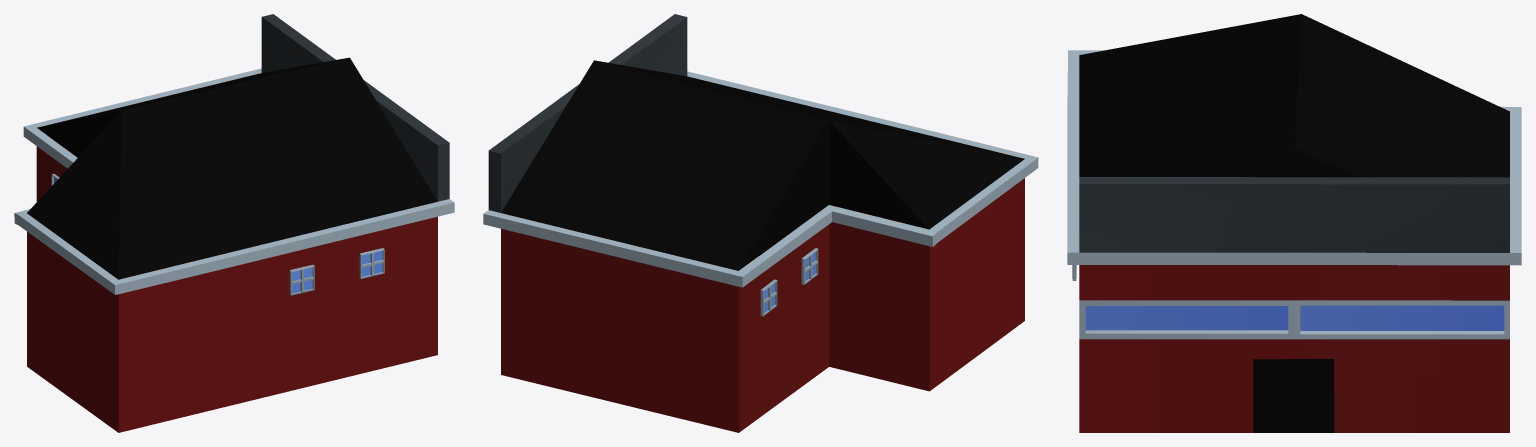
The model's file is ALMACEN CON COLORES.fbx.
The picture shows the model from 3 angles, left to right: view 1: azimuth 30°, elevation 25°; view 2: azimuth 150°, elevation 25°; view 3: azimuth 270°, elevation 25°; orthographic projection. The views are drawn at different scales.
Parts seen in each view (by area): view 1: Plano, ventanas atras.001; view 2: Plano, ventanas atras; view 3: Plano.
Boxes of the visible parts, x1,y1,x2,y2 form: Plano: [14, 14, 454, 432]; ventanas atras.001: [289, 248, 384, 295]; Plano: [483, 14, 1038, 432]; ventanas atras: [760, 248, 818, 316]; Plano: [1067, 14, 1521, 432].
Size of the model in its own units: 3517 by 2306 by 3334.
